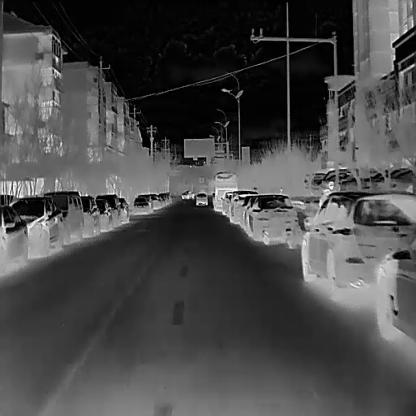bus: (212, 170, 236, 212)
car: (300, 189, 416, 290), (371, 242, 415, 342), (13, 195, 64, 257), (243, 194, 297, 244), (43, 189, 80, 244), (0, 205, 27, 275), (87, 193, 111, 232), (83, 194, 98, 245), (228, 194, 252, 224), (101, 191, 120, 228), (115, 196, 129, 223), (219, 188, 233, 214), (132, 194, 148, 214), (194, 191, 208, 206)
